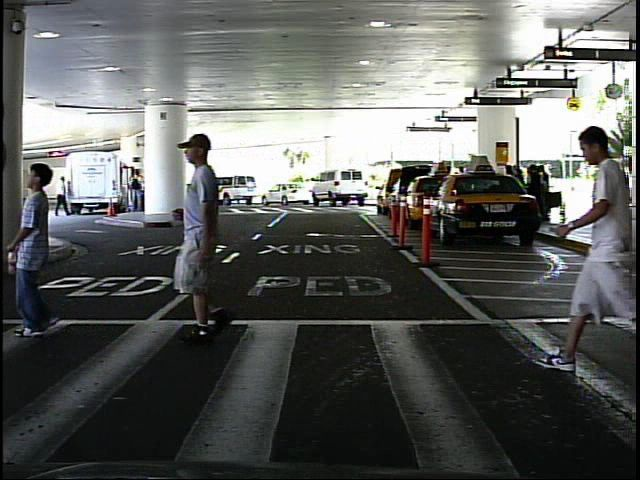person: (535, 115, 633, 381), (163, 130, 259, 342), (11, 156, 77, 345), (53, 171, 72, 221), (588, 172, 605, 216)
